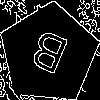B: (23, 28, 71, 84)
